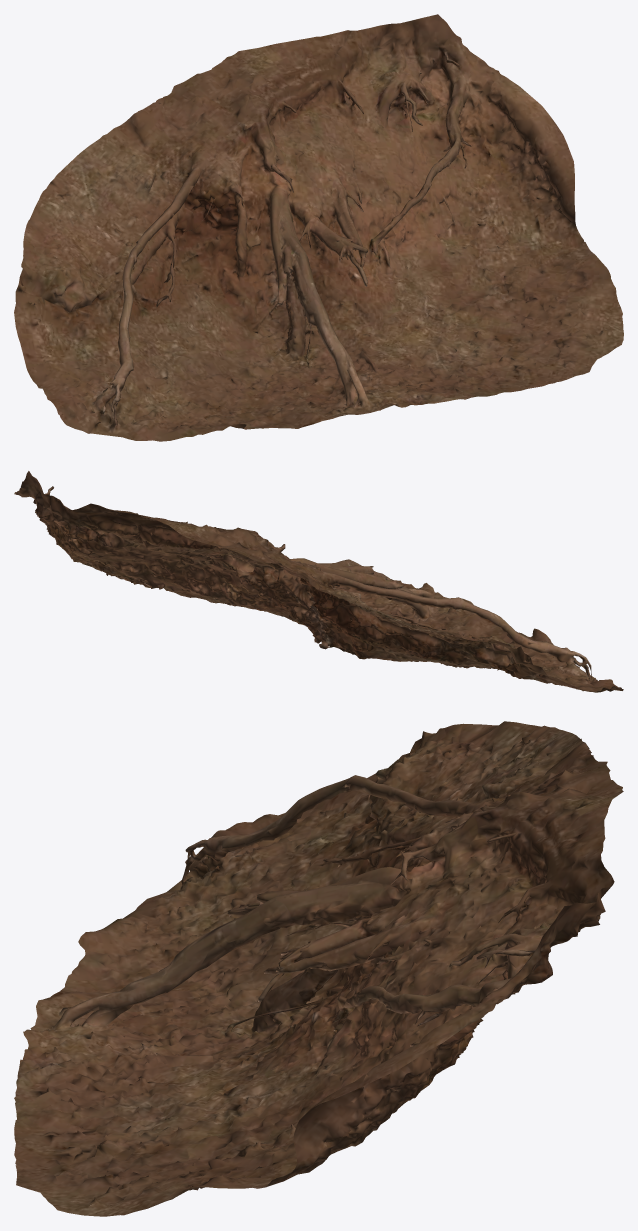
The model's file is root_cluster_01.glb.
The picture shows the model from 3 angles, top to bottom: view 1: azimuth 30°, elevation 25°; view 2: azimuth 150°, elevation 25°; view 3: azimuth 270°, elevation 25°; orthographic projection. The views are drawn at different scales.
Parts seen in each view (by area): view 1: root_cluster_01; view 2: root_cluster_01; view 3: root_cluster_01.
Part boxes in pixels (x1,y1,x2,y2): root_cluster_01: [14, 14, 623, 441]; root_cluster_01: [14, 471, 623, 692]; root_cluster_01: [14, 721, 623, 1216].
Bounding box in the file's own units: 4.12 × 1.51 × 2.68.
1 material, 1 textured.
